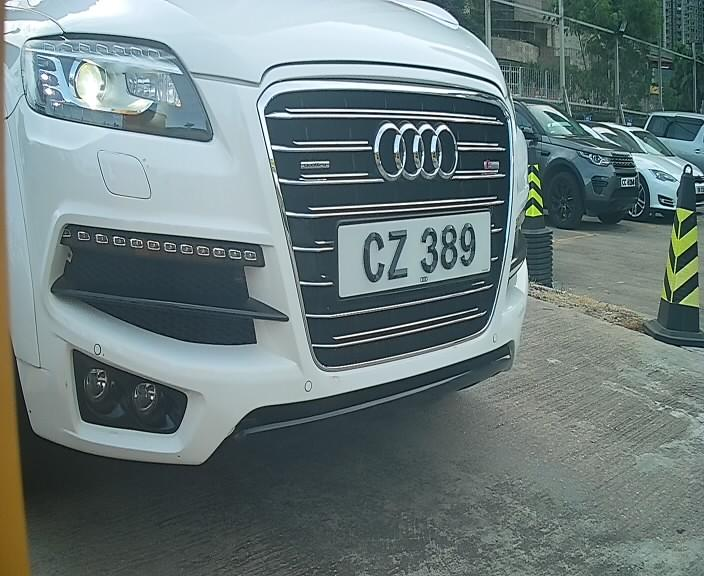Car: (4, 8, 566, 502)
License Plate: (327, 204, 491, 304)
